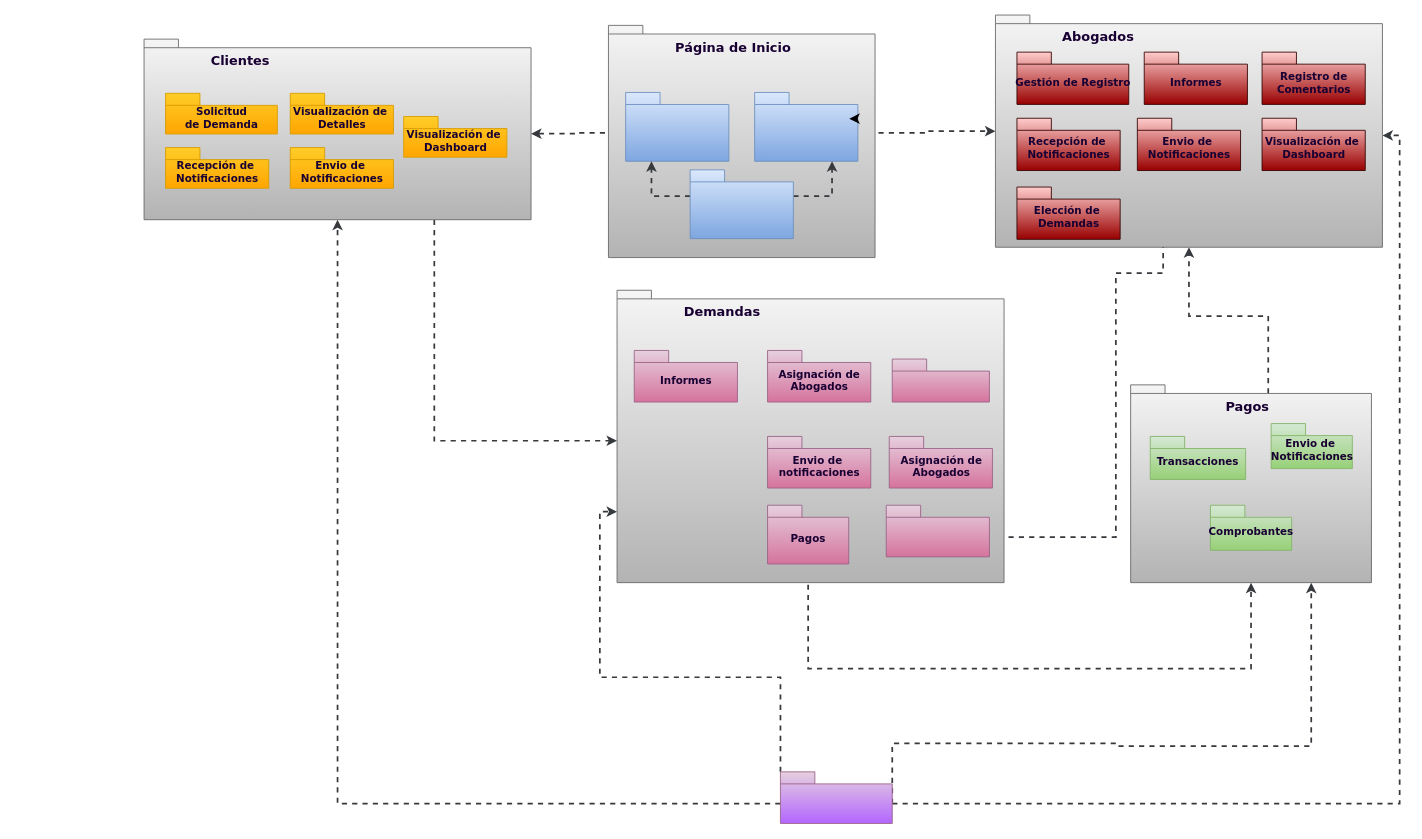
The diagram is 1422 pixels wide and 839 high, and some of its shapes have lost their labels. Each missing label, with the centre of its shape:
"Altas" belongs at point (940, 380).
"Base de datos" belongs at point (836, 797).
"Inferfaz web" belongs at point (741, 204).
"Panel de Abogados" belongs at point (806, 126).
"Panel de Usuario" belongs at point (677, 126).
"Recepcion de Comentarios" belongs at point (937, 530).
